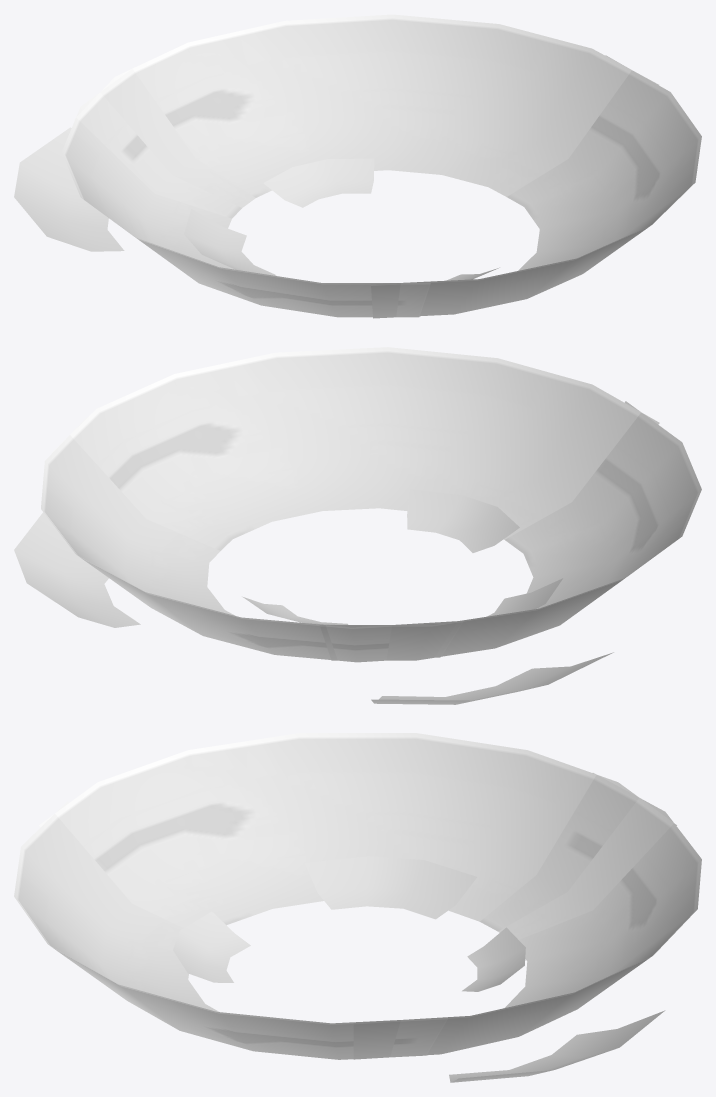
The model's file is Smoke_Spin01.FBX.
3 renders of one model, top to bottom at view 1: azimuth 30°, elevation 25°; view 2: azimuth 150°, elevation 25°; view 3: azimuth 270°, elevation 25°, orthographic. The views are drawn at different scales.
Visible parts, largest first — view 1: Sphere004; view 2: Sphere004; view 3: Sphere004.
Part boxes in pixels (x1,y1,x2,y2): Sphere004: [14, 14, 701, 318]; Sphere004: [14, 347, 701, 704]; Sphere004: [14, 733, 701, 1082].
Bounding box in the file's own units: 117 × 17.38 × 115.
Materials: 1 (1 with a texture image).
